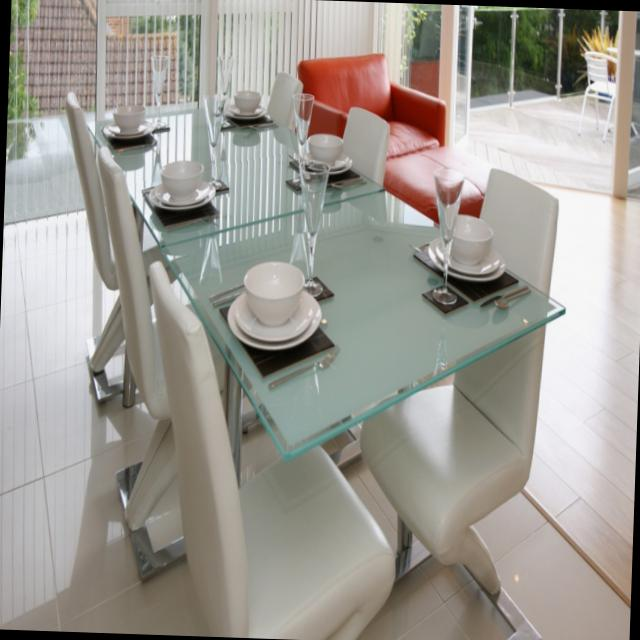obstacle: (2, 91, 500, 578), (374, 114, 564, 573), (122, 270, 221, 616)
